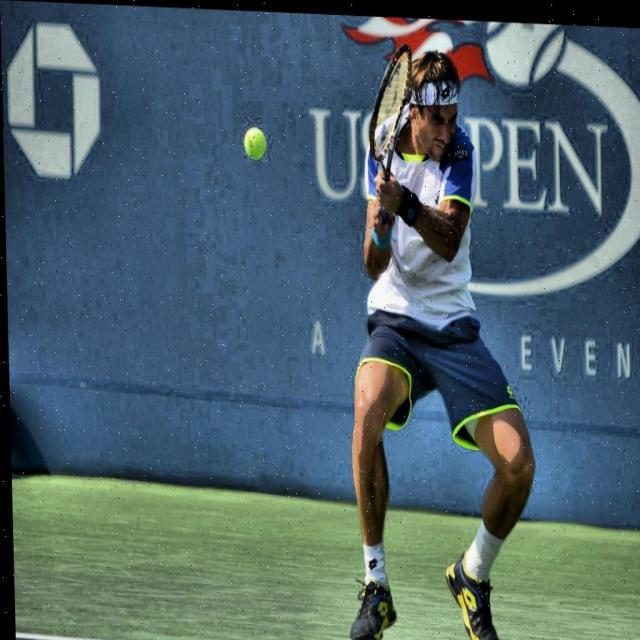tennis-ball: (240, 121, 268, 161)
